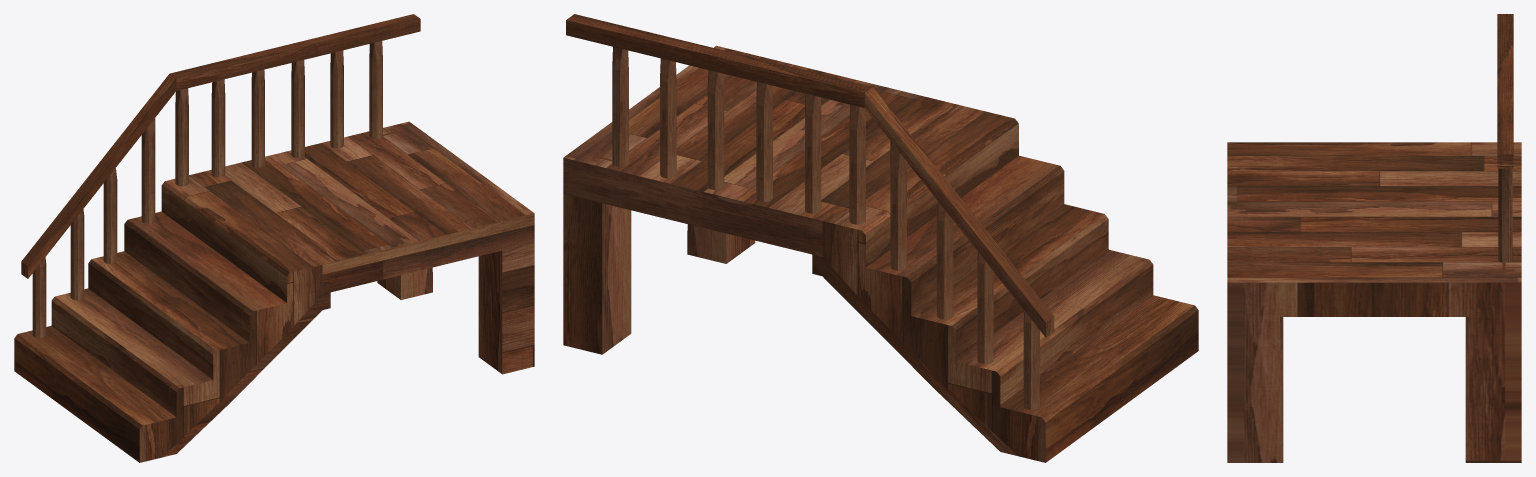
Rendered from GarageStairs.fbx.
3 views of the same model, side by side, from view 1: azimuth 30°, elevation 25°; view 2: azimuth 150°, elevation 25°; view 3: azimuth 270°, elevation 25° (orthographic). The views are drawn at different scales.
Visible parts, largest first — view 1: Cube.001; view 2: Cube.001; view 3: Cube.001.
Part boxes in pixels (x1=…): Cube.001: x1=14, y1=14, x2=534, y2=462; Cube.001: x1=563, y1=14, x2=1198, y2=462; Cube.001: x1=1227, y1=14, x2=1521, y2=462.
Bounding box in the file's own units: 407 × 259 × 223.
Materials: 2 (2 with a texture image).
